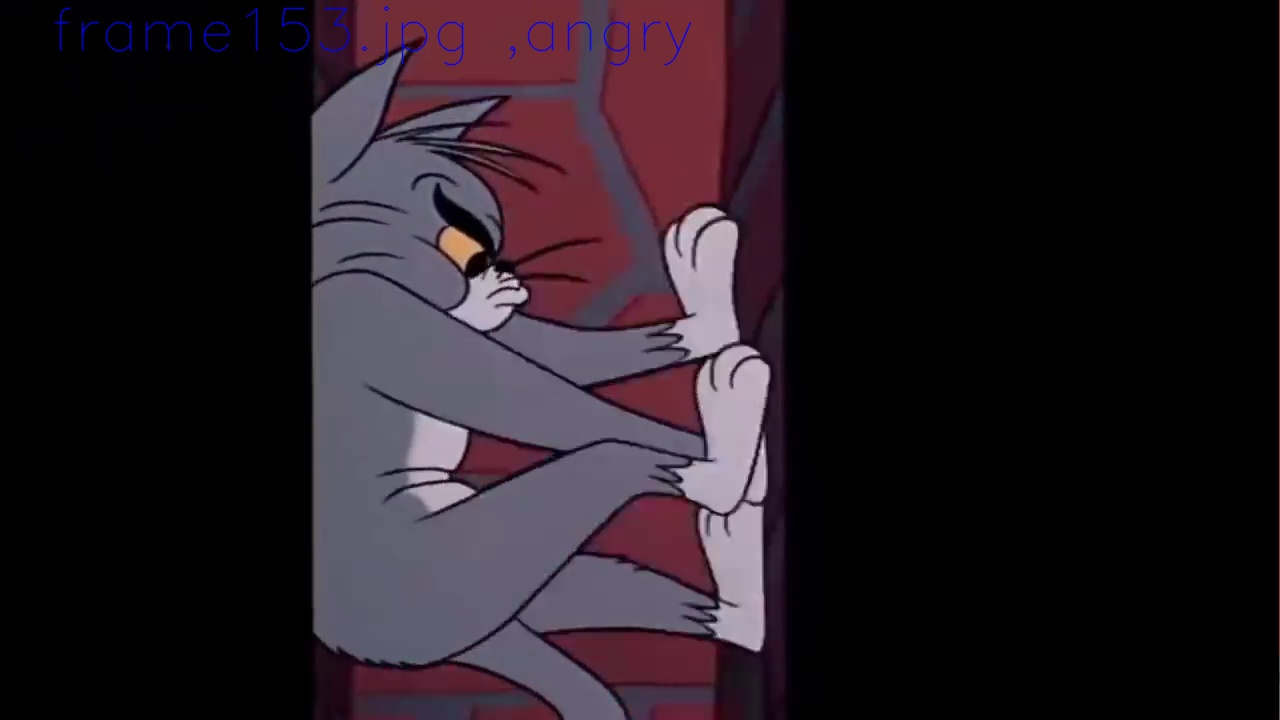angry: (411, 166, 522, 330)
